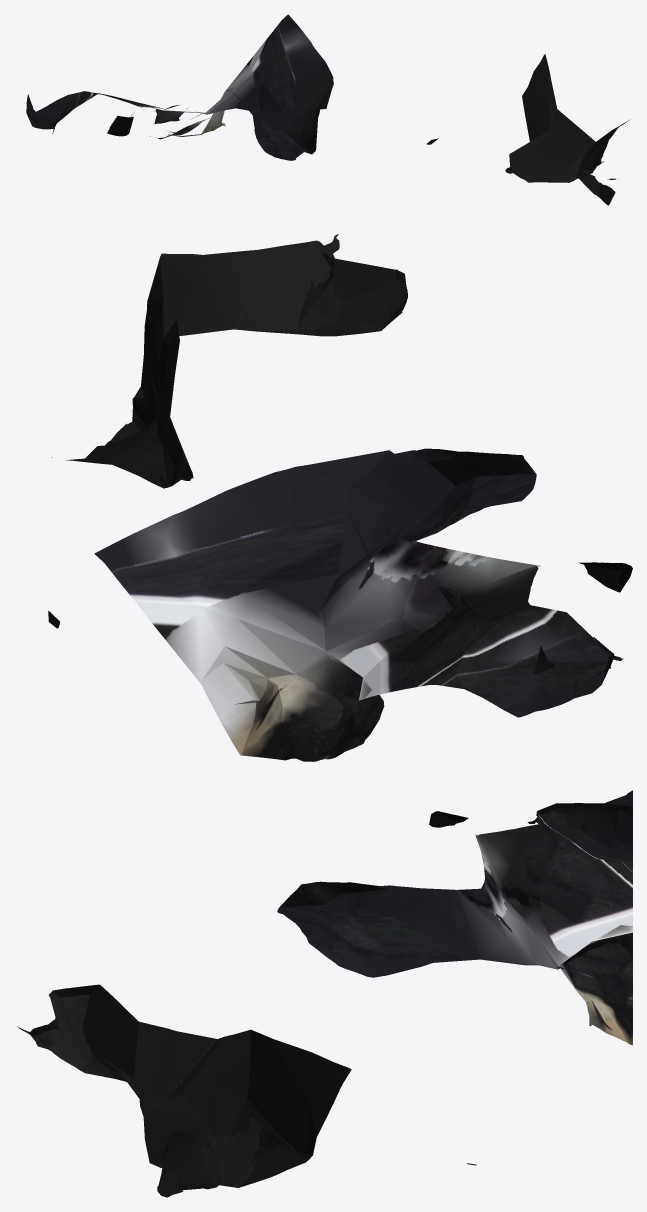
3 renders of one model, top to bottom at view 1: azimuth 30°, elevation 25°; view 2: azimuth 150°, elevation 25°; view 3: azimuth 270°, elevation 25°, orthographic. The views are drawn at different scales.
Size of the model in its own units: 2.72 by 0.6395 by 2.51.
Materials: 1 (1 with a texture image).
